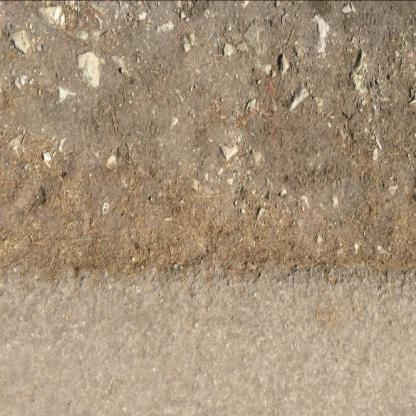Cigarette: (376, 137, 382, 150)
Pop tab: (103, 203, 110, 214)
